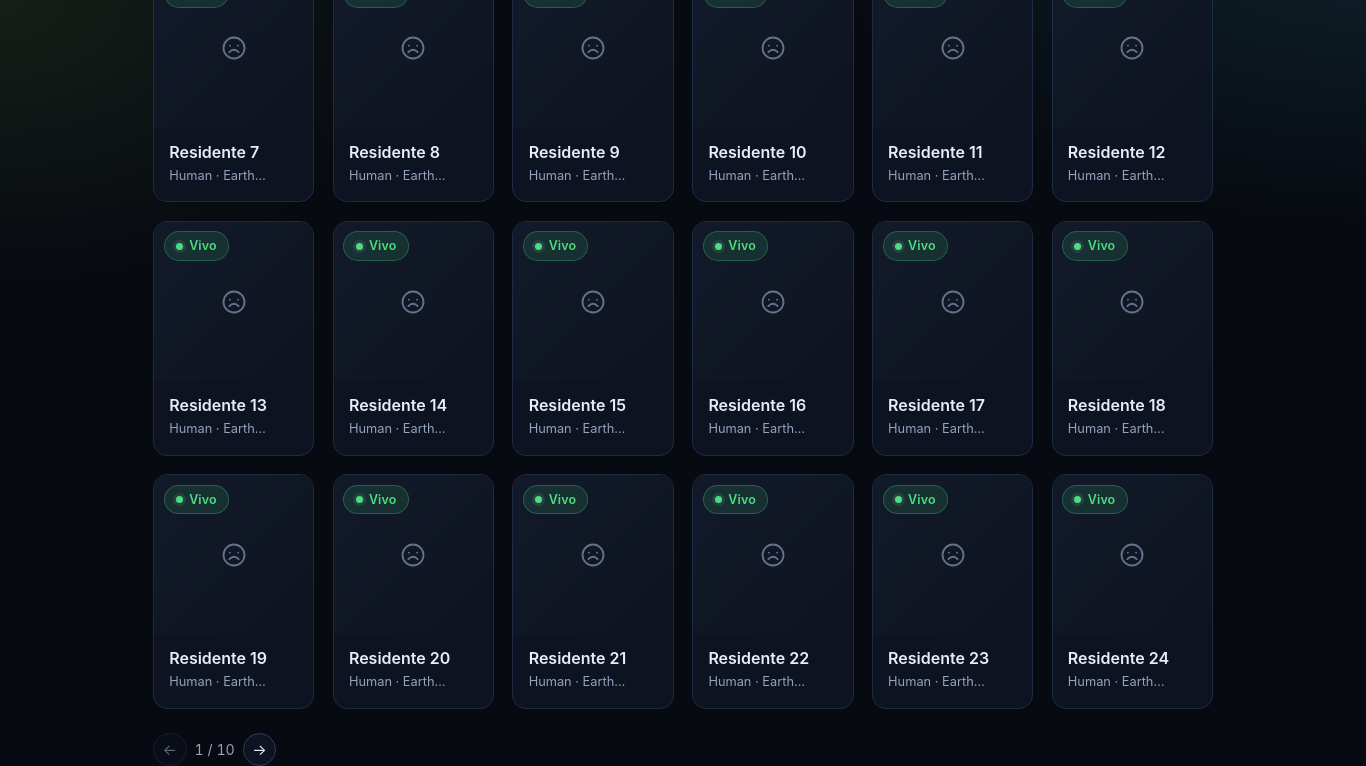
Test: LocationDetailPage · residentes › vuelve a la página anterior
(page scrolled)
Click the button named "siguiente".
click(259, 750)  # box [243,733,276,765]
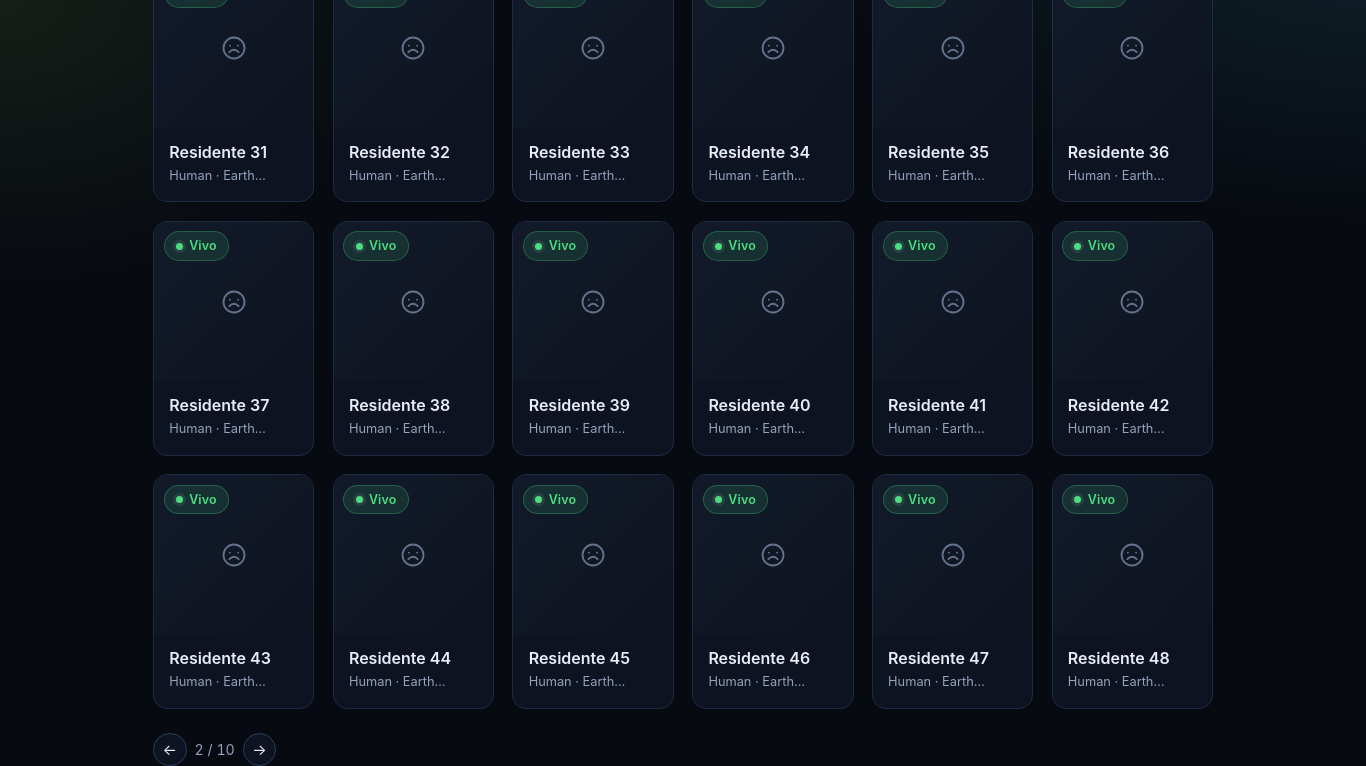
Result: the button named "anterior" is enabled
Click the button named "anterior".
click(170, 750)  # box [153,733,187,765]
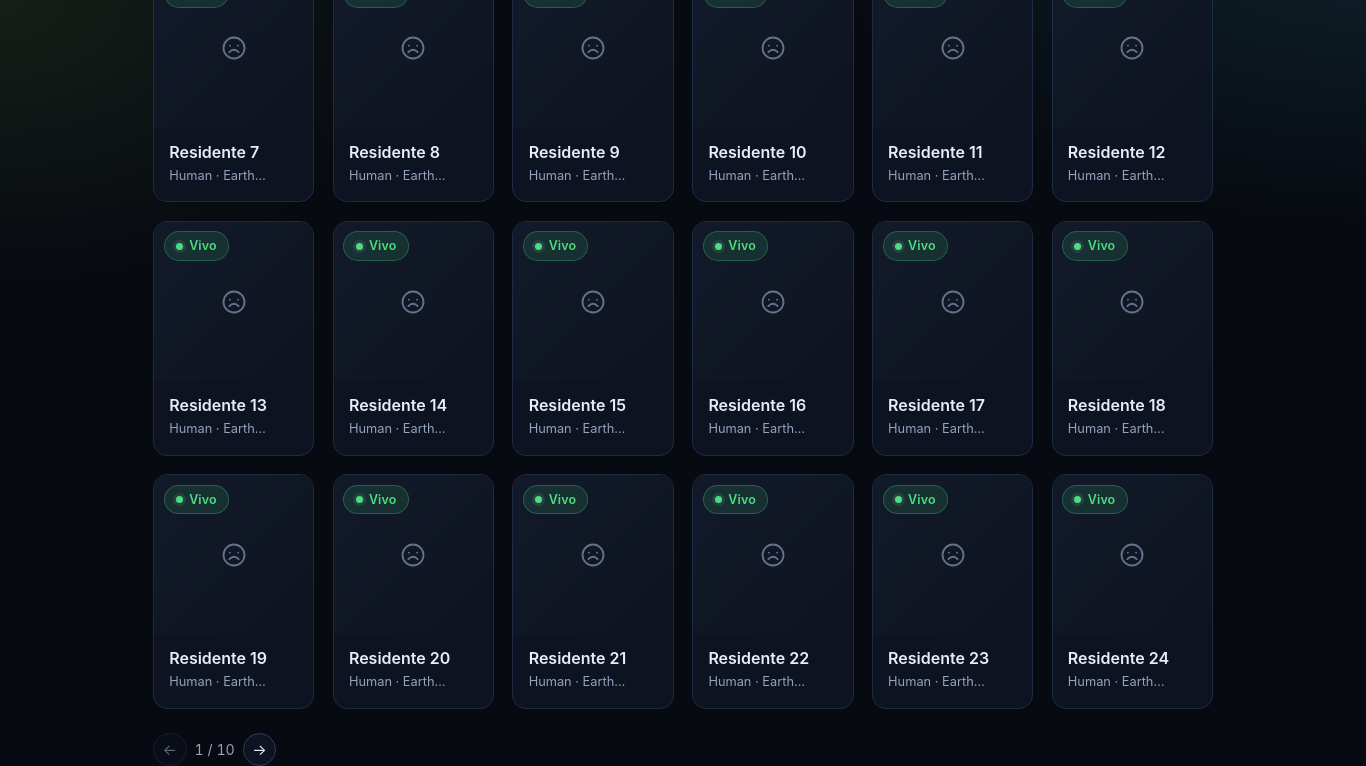
Result: the button named "anterior" is disabled at [153,733,187,765]
